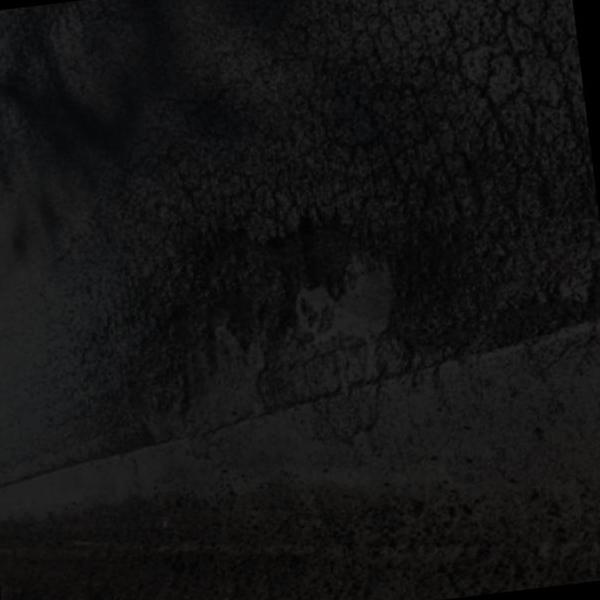pothole: (52, 213, 486, 454)
